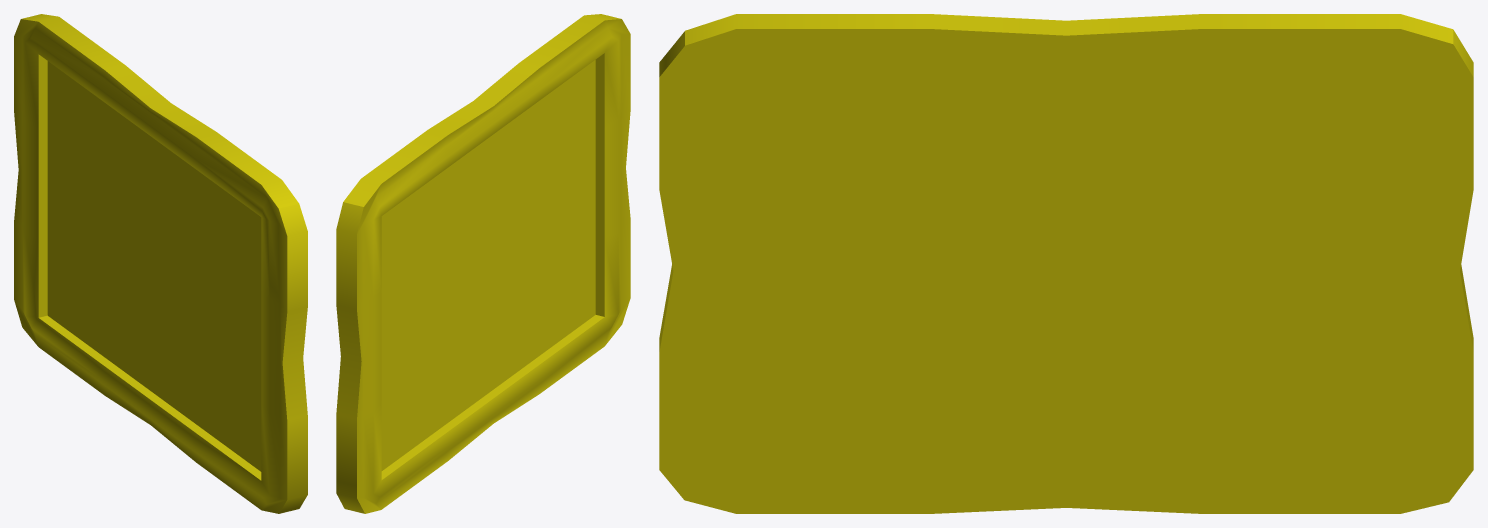
File: Frame.FBX
3 renders of one model, left to right at view 1: azimuth 30°, elevation 25°; view 2: azimuth 150°, elevation 25°; view 3: azimuth 270°, elevation 25°, orthographic. The views are drawn at different scales.
Parts seen in each view (by area): view 1: Box002; view 2: Box002; view 3: Box002.
Part boxes in pixels (<box>): Box002: <box>14,14,307,513</box>; Box002: <box>336,14,630,513</box>; Box002: <box>659,14,1473,513</box>.
Bounding box in the file's own units: 0.669 × 8.88 × 13.51.
